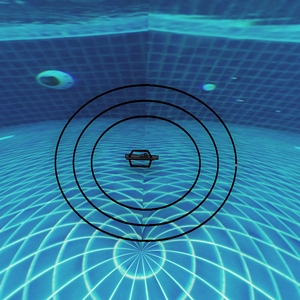submarine: (129, 147, 155, 163)
